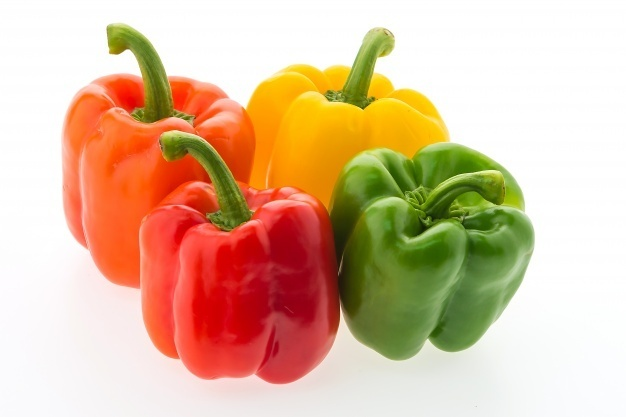fruit: (330, 144, 535, 362), (60, 72, 257, 289), (140, 179, 340, 384), (246, 63, 451, 216)
pedicle: (405, 185, 466, 225), (130, 104, 197, 122), (323, 87, 377, 109), (207, 208, 254, 231)
